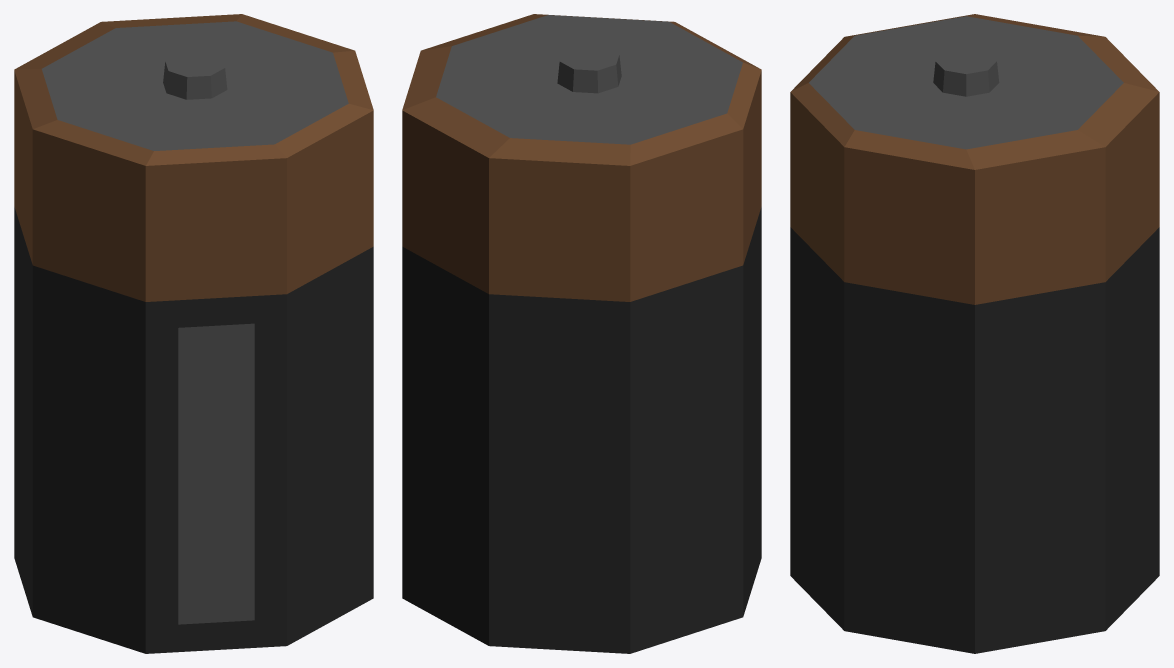
The model's file is battery_big.glb.
3 renders of one model, left to right at view 1: azimuth 30°, elevation 25°; view 2: azimuth 150°, elevation 25°; view 3: azimuth 270°, elevation 25°, orthographic.
Visible parts, largest first — view 1: battery_big; view 2: battery_big; view 3: battery_big.
Boxes of the visible parts, left/top/right/bottom form: battery_big: left=14, top=14, right=373, bottom=653; battery_big: left=402, top=14, right=761, bottom=653; battery_big: left=790, top=14, right=1159, bottom=653.
Size of the model in its own units: 0.0717 by 0.11 by 0.0717.
